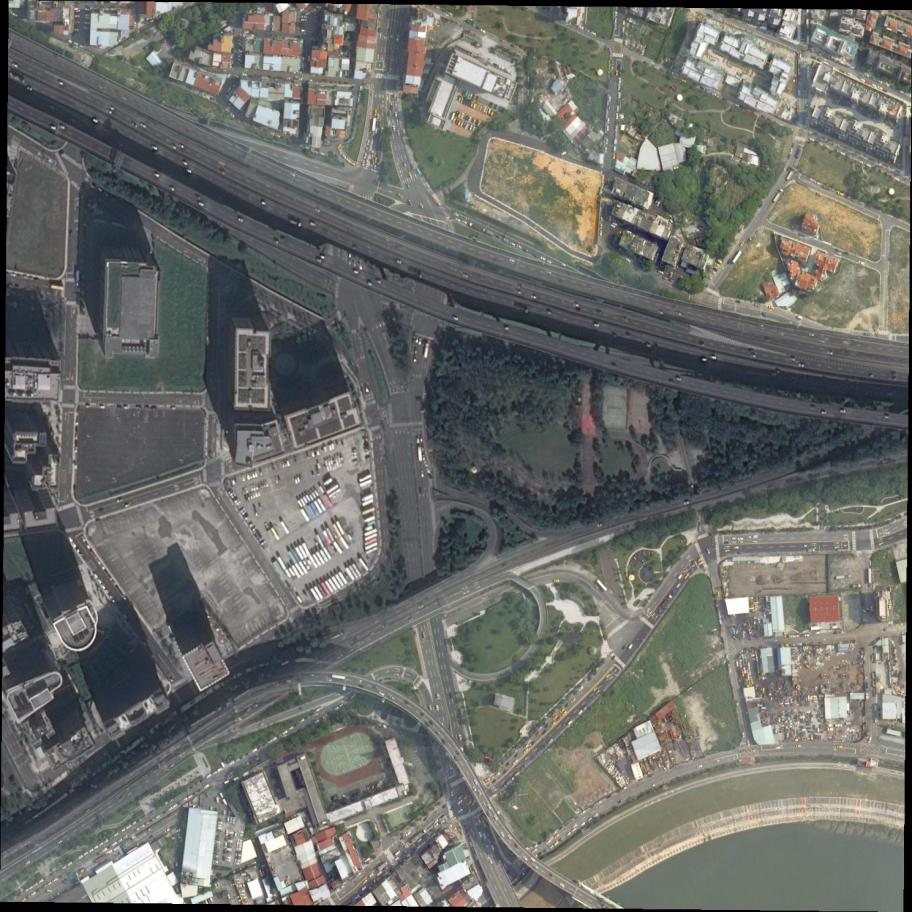large-vehicle: (772, 188, 785, 203), (300, 542, 311, 557), (315, 497, 326, 512), (332, 541, 343, 555), (310, 587, 321, 601), (320, 581, 331, 595), (270, 527, 281, 541), (291, 565, 302, 579), (325, 527, 335, 542), (322, 530, 332, 545), (313, 499, 323, 514), (316, 551, 326, 566), (316, 583, 326, 598), (364, 541, 379, 551), (339, 537, 350, 550), (298, 561, 309, 574), (322, 494, 333, 507), (732, 251, 743, 264), (298, 545, 308, 559), (310, 502, 320, 516), (300, 508, 310, 522), (280, 521, 290, 535), (309, 555, 319, 569), (312, 553, 322, 567), (324, 580, 334, 594), (338, 571, 348, 585), (345, 567, 355, 581), (348, 565, 358, 579), (352, 563, 362, 577), (359, 557, 369, 571), (363, 537, 378, 546), (596, 580, 607, 592), (315, 535, 325, 548), (290, 549, 300, 562), (277, 557, 287, 570), (323, 547, 333, 560), (319, 550, 329, 563), (294, 563, 304, 576), (329, 488, 342, 498), (327, 579, 337, 592), (289, 218, 302, 228), (336, 521, 345, 535), (314, 586, 323, 600), (359, 479, 373, 488), (364, 533, 378, 542), (287, 551, 297, 563), (327, 484, 339, 494), (334, 575, 344, 587), (785, 168, 795, 180), (332, 524, 341, 537), (295, 547, 304, 560), (359, 474, 372, 483), (362, 507, 375, 516), (332, 576, 341, 589), (364, 528, 377, 537), (482, 228, 495, 237), (308, 504, 316, 518), (469, 223, 482, 231), (361, 494, 373, 502), (362, 499, 374, 507), (366, 547, 378, 555), (364, 516, 376, 523), (284, 570, 293, 579), (288, 567, 296, 577), (424, 343, 429, 358), (418, 447, 423, 462), (364, 524, 373, 532), (796, 146, 802, 158), (372, 118, 377, 132), (76, 271, 80, 287), (324, 478, 333, 485), (366, 520, 376, 526), (333, 675, 345, 679)
small-vehicle: (130, 121, 139, 128), (140, 122, 148, 129), (314, 207, 321, 214), (218, 169, 225, 176), (237, 216, 244, 223), (309, 221, 317, 227), (197, 201, 205, 207), (121, 96, 129, 102), (548, 738, 554, 746), (319, 486, 325, 493), (311, 491, 317, 498), (308, 493, 314, 500), (305, 494, 311, 501), (297, 500, 303, 507), (273, 238, 279, 245), (168, 186, 175, 192), (153, 172, 160, 178), (185, 168, 192, 174), (181, 160, 188, 166), (375, 279, 382, 285), (366, 281, 373, 287), (319, 254, 326, 260), (108, 106, 115, 112), (92, 118, 99, 124), (467, 116, 473, 123), (398, 192, 404, 199), (300, 498, 305, 506), (364, 385, 369, 393), (50, 125, 58, 130), (451, 113, 456, 121), (789, 357, 797, 362), (168, 764, 174, 770), (112, 841, 118, 847), (261, 200, 267, 206), (195, 194, 201, 200), (253, 529, 259, 535), (628, 643, 634, 649), (678, 574, 684, 580), (676, 583, 682, 589), (290, 172, 296, 178), (739, 241, 745, 247), (522, 856, 528, 862), (362, 885, 368, 891), (395, 851, 401, 857), (571, 698, 577, 704), (537, 726, 543, 732), (441, 739, 447, 745), (314, 489, 319, 496), (303, 496, 308, 503), (178, 143, 185, 148), (353, 269, 360, 274), (106, 109, 113, 114), (27, 87, 34, 92), (12, 63, 19, 68), (296, 476, 301, 483), (241, 474, 246, 481), (305, 452, 310, 459), (868, 737, 873, 744), (827, 350, 834, 355), (382, 624, 389, 629), (574, 303, 581, 308), (571, 824, 578, 829), (428, 704, 432, 712), (379, 691, 385, 696), (85, 809, 91, 814), (67, 861, 73, 866), (93, 845, 99, 850), (131, 821, 137, 826), (102, 848, 108, 853), (57, 841, 63, 846), (25, 861, 31, 866), (314, 720, 320, 725), (252, 748, 258, 753), (350, 695, 356, 700), (122, 835, 128, 840), (172, 804, 178, 809), (182, 797, 188, 802), (193, 791, 199, 796), (171, 145, 177, 150), (152, 145, 158, 150), (280, 236, 286, 241), (316, 258, 322, 263), (60, 125, 66, 130), (58, 81, 64, 86), (275, 134, 281, 139), (254, 492, 259, 498), (336, 456, 341, 462), (324, 460, 329, 466), (231, 479, 236, 485), (229, 492, 235, 497), (231, 494, 237, 499), (260, 541, 266, 546), (256, 535, 262, 540), (254, 532, 260, 537), (234, 499, 240, 504), (249, 522, 254, 528), (240, 508, 246, 513), (453, 118, 458, 124), (457, 120, 462, 126), (460, 121, 465, 127), (465, 124, 470, 130), (469, 125, 474, 131), (458, 112, 463, 118), (419, 202, 424, 208), (408, 200, 413, 206), (472, 119, 477, 125), (684, 574, 689, 580), (706, 549, 711, 555), (483, 107, 488, 113), (485, 108, 490, 114), (480, 29, 486, 34), (658, 270, 664, 275), (821, 410, 827, 415), (701, 357, 707, 362), (463, 274, 469, 279), (406, 183, 411, 189), (409, 618, 415, 623), (418, 604, 424, 609), (871, 82, 877, 87), (684, 500, 690, 505), (509, 258, 515, 263), (531, 294, 537, 299), (707, 276, 713, 281), (714, 262, 720, 267), (836, 252, 842, 257), (487, 804, 492, 810), (493, 815, 498, 821), (501, 832, 506, 838), (533, 864, 539, 869), (560, 883, 566, 888), (377, 871, 383, 876), (457, 796, 463, 801), (457, 800, 463, 805), (467, 800, 472, 806), (472, 800, 477, 806), (362, 879, 368, 884), (165, 828, 171, 833), (406, 832, 412, 837), (579, 686, 584, 692), (435, 730, 441, 735), (559, 709, 565, 714), (523, 749, 529, 754), (532, 848, 538, 853), (474, 855, 479, 861), (440, 814, 446, 819), (554, 833, 559, 839), (616, 789, 622, 794), (597, 800, 603, 805), (622, 786, 628, 791), (580, 810, 586, 815), (559, 837, 565, 842), (359, 263, 363, 270), (328, 444, 332, 451), (329, 464, 333, 471), (316, 449, 320, 456), (271, 464, 275, 471), (478, 120, 482, 127), (729, 628, 733, 635), (768, 306, 775, 310), (416, 337, 420, 344), (450, 816, 457, 820), (78, 855, 83, 860), (46, 882, 51, 887), (97, 852, 102, 857), (272, 737, 277, 742), (207, 774, 212, 779), (204, 784, 209, 789), (140, 824, 145, 829), (199, 788, 204, 793), (238, 41, 243, 46), (238, 51, 243, 56), (125, 503, 130, 508), (228, 489, 233, 494), (258, 537, 263, 542), (252, 527, 257, 532), (244, 516, 249, 521), (236, 501, 241, 506), (472, 127, 477, 132), (547, 260, 552, 265), (698, 562, 703, 567), (594, 585, 599, 590), (436, 201, 441, 206), (421, 841, 426, 846), (435, 824, 440, 829), (434, 819, 439, 824), (515, 844, 520, 849), (369, 873, 374, 878), (417, 838, 422, 843), (405, 843, 410, 848), (531, 756, 536, 761), (536, 751, 541, 756), (429, 721, 434, 726), (515, 753, 520, 758), (521, 766, 526, 771), (501, 785, 506, 790), (545, 724, 550, 729), (551, 722, 556, 727), (553, 716, 558, 721), (557, 716, 562, 721), (562, 711, 567, 716), (565, 703, 570, 708), (513, 760, 518, 765), (546, 840, 551, 845), (538, 852, 543, 857), (454, 756, 459, 761), (456, 751, 461, 756), (554, 841, 559, 846), (579, 710, 584, 715), (581, 822, 586, 827), (83, 852, 89, 856), (98, 843, 104, 847), (113, 833, 119, 837), (259, 723, 265, 727), (299, 706, 305, 710), (228, 762, 234, 766), (135, 828, 141, 832), (150, 818, 156, 822), (338, 461, 342, 467), (123, 406, 129, 410), (353, 261, 357, 267), (331, 464, 335, 470), (361, 160, 365, 166), (364, 153, 368, 159), (252, 492, 256, 498), (257, 490, 261, 496), (258, 484, 262, 490), (255, 484, 259, 490), (252, 485, 256, 491), (250, 486, 254, 492), (335, 442, 339, 448), (331, 444, 335, 450), (323, 446, 327, 452), (250, 493, 254, 499), (326, 466, 330, 472), (294, 478, 298, 484), (275, 478, 279, 484), (286, 460, 290, 466), (259, 470, 263, 476), (255, 470, 258, 478), (249, 472, 253, 478), (294, 456, 298, 462), (461, 113, 465, 119), (540, 257, 546, 261), (561, 152, 567, 156), (471, 101, 475, 107), (717, 591, 721, 597), (696, 765, 702, 769), (473, 102, 477, 108), (472, 94, 476, 100), (397, 260, 403, 264), (503, 239, 509, 243), (546, 271, 552, 275), (675, 312, 681, 316), (819, 339, 825, 343), (799, 363, 805, 367), (658, 311, 664, 315), (597, 522, 603, 526), (738, 540, 744, 544), (462, 220, 468, 224), (421, 470, 424, 478), (453, 317, 459, 321), (847, 72, 853, 76), (860, 78, 866, 82), (657, 201, 661, 207), (741, 732, 745, 738), (508, 835, 512, 841), (549, 873, 555, 877), (463, 794, 467, 800), (479, 832, 483, 838), (242, 882, 246, 888), (245, 876, 251, 880), (390, 696, 396, 700), (474, 780, 478, 786), (473, 786, 477, 792), (587, 818, 593, 822), (374, 109, 377, 116), (247, 493, 250, 500), (311, 450, 314, 457), (247, 473, 250, 480), (75, 447, 78, 454), (75, 433, 78, 440), (352, 455, 357, 459), (38, 879, 43, 883), (89, 849, 94, 853), (103, 839, 108, 843), (121, 828, 126, 832), (126, 825, 131, 829), (31, 892, 36, 896), (52, 879, 57, 883), (44, 876, 48, 881), (33, 883, 38, 887), (28, 886, 33, 890), (107, 845, 112, 849), (200, 779, 205, 783), (217, 768, 222, 772), (283, 730, 288, 734), (327, 712, 332, 716), (333, 708, 338, 712), (339, 704, 344, 708), (118, 839, 123, 843), (195, 782, 200, 786), (189, 794, 193, 799), (237, 58, 242, 62), (260, 483, 264, 488), (262, 482, 266, 487), (265, 482, 269, 487), (245, 488, 249, 493), (340, 441, 344, 446), (326, 459, 330, 464), (244, 495, 248, 500), (321, 447, 325, 452), (117, 499, 122, 503), (243, 514, 248, 518), (242, 511, 247, 515), (229, 831, 234, 835), (517, 245, 522, 249), (561, 263, 566, 267), (611, 224, 616, 228), (698, 558, 703, 562), (657, 762, 661, 767), (488, 110, 492, 115), (490, 111, 494, 116), (470, 93, 474, 98), (468, 92, 472, 97), (465, 91, 469, 96), (626, 258, 631, 262), (591, 31, 596, 35), (676, 377, 681, 381), (866, 81, 871, 85), (738, 537, 743, 541), (456, 218, 461, 222), (595, 323, 600, 327), (878, 86, 883, 90), (838, 192, 843, 196), (713, 267, 718, 271), (711, 270, 716, 274), (789, 149, 793, 154), (659, 203, 663, 208), (487, 812, 491, 817), (531, 858, 536, 862), (417, 845, 422, 849), (431, 833, 436, 837), (458, 809, 463, 813), (483, 834, 487, 839), (489, 859, 493, 864), (218, 821, 223, 825), (236, 899, 241, 903), (176, 829, 181, 833), (217, 882, 221, 887), (541, 747, 546, 751), (506, 762, 511, 766), (574, 692, 579, 696), (543, 730, 548, 734), (536, 733, 540, 738), (503, 770, 508, 774), (469, 842, 473, 847), (478, 790, 482, 795), (448, 825, 453, 829), (549, 845, 554, 849), (484, 778, 489, 782), (567, 832, 571, 837), (552, 831, 557, 835), (594, 813, 598, 818), (46, 890, 52, 893), (235, 856, 241, 859), (237, 845, 243, 848), (336, 462, 339, 468), (334, 463, 337, 469), (374, 164, 377, 170), (375, 157, 378, 163), (84, 27, 90, 30), (388, 110, 391, 116), (395, 112, 398, 118), (367, 139, 370, 145), (335, 456, 338, 462), (330, 458, 333, 464), (255, 510, 258, 516), (314, 450, 317, 456), (282, 462, 285, 468), (252, 472, 255, 478), (619, 92, 622, 98), (619, 78, 622, 84), (616, 71, 619, 77), (409, 172, 412, 178), (606, 139, 609, 145), (747, 740, 750, 746), (866, 694, 869, 700), (742, 671, 745, 677), (461, 97, 464, 103), (459, 96, 462, 102), (490, 102, 493, 108), (808, 333, 814, 336), (711, 356, 717, 359), (798, 90, 801, 96), (419, 339, 422, 345), (750, 750, 756, 753), (469, 808, 472, 814), (236, 885, 242, 888), (215, 883, 218, 889), (459, 734, 462, 740), (436, 705, 439, 711), (423, 632, 426, 638), (300, 719, 304, 723), (145, 822, 149, 826), (156, 815, 160, 819), (164, 810, 168, 814), (238, 48, 242, 52), (238, 55, 242, 59), (332, 458, 336, 462), (426, 723, 430, 727), (524, 745, 528, 749), (515, 772, 519, 776), (441, 820, 445, 824), (496, 772, 500, 776), (309, 674, 314, 677), (212, 772, 217, 775), (168, 808, 173, 811), (152, 408, 157, 411), (349, 254, 352, 259), (366, 147, 369, 152), (377, 114, 380, 119), (243, 489, 246, 494), (317, 463, 320, 468), (312, 472, 315, 477), (228, 842, 233, 845), (747, 675, 750, 680), (477, 96, 480, 101), (500, 39, 505, 42), (611, 65, 614, 70), (840, 410, 845, 413), (747, 536, 752, 539), (481, 817, 484, 822), (217, 826, 222, 829), (217, 824, 222, 827), (225, 837, 228, 842), (214, 852, 219, 855), (235, 896, 240, 899), (230, 883, 235, 886), (796, 745, 801, 748), (533, 845, 538, 848), (77, 418, 79, 425), (869, 374, 873, 377), (235, 831, 237, 837), (236, 849, 242, 851), (238, 839, 242, 842), (228, 810, 230, 816), (322, 717, 326, 720), (137, 407, 141, 410), (171, 407, 175, 410), (349, 261, 352, 265), (85, 22, 89, 25), (86, 405, 90, 408), (75, 464, 77, 470), (228, 840, 232, 843), (617, 113, 619, 119), (616, 125, 618, 131), (511, 243, 515, 246), (875, 706, 877, 712), (875, 718, 877, 724), (884, 416, 890, 418), (601, 216, 603, 222), (241, 897, 247, 899), (451, 790, 453, 796), (216, 838, 220, 841), (230, 818, 233, 822), (233, 818, 235, 824), (225, 842, 227, 848), (239, 891, 245, 893), (242, 873, 246, 876), (214, 855, 218, 858), (437, 694, 439, 700), (553, 581, 559, 583), (493, 780, 497, 783), (357, 680, 362, 682), (235, 859, 240, 861), (236, 854, 241, 856), (238, 843, 243, 845), (239, 834, 244, 836), (239, 831, 244, 833), (223, 810, 225, 815), (393, 126, 395, 131), (391, 105, 393, 110), (75, 21, 80, 23), (75, 15, 80, 17), (394, 93, 396, 98), (100, 406, 105, 408), (614, 154, 616, 159), (617, 107, 619, 112), (609, 96, 611, 101), (619, 85, 621, 90), (889, 604, 891, 609), (784, 632, 786, 637), (751, 679, 753, 684), (751, 355, 756, 357), (600, 231, 602, 236), (792, 143, 794, 148), (227, 846, 232, 848), (492, 845, 494, 850), (240, 894, 245, 896), (837, 746, 842, 748), (812, 406, 816, 408), (352, 452, 356, 454), (235, 863, 239, 865), (327, 679, 331, 681), (75, 29, 79, 31), (302, 32, 306, 34), (118, 406, 122, 408), (606, 148, 608, 152), (607, 126, 609, 130), (608, 106, 610, 110), (484, 823, 486, 827), (776, 747, 780, 749), (216, 847, 220, 849), (216, 836, 220, 838), (226, 859, 230, 861), (216, 845, 220, 847), (215, 850, 219, 852), (235, 879, 239, 881), (214, 861, 218, 863), (608, 118, 609, 124), (601, 224, 602, 230), (216, 841, 219, 843), (236, 882, 239, 884), (301, 30, 306, 31), (227, 830, 228, 835), (224, 855, 225, 860), (227, 849, 232, 850), (228, 818, 229, 822)
